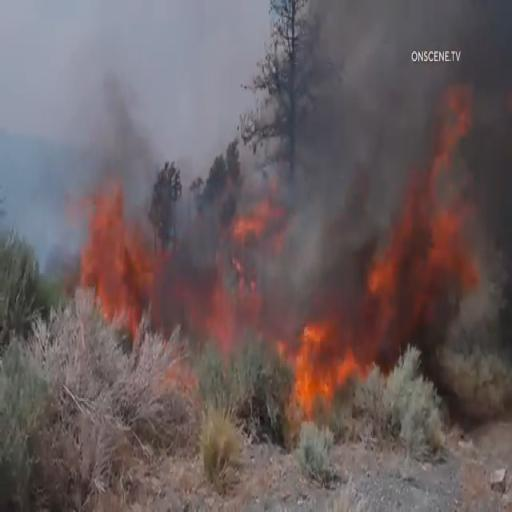fire: (376, 84, 480, 366), (64, 178, 170, 354), (277, 275, 366, 429)
smoke: (277, 12, 370, 234), (75, 32, 159, 183)
